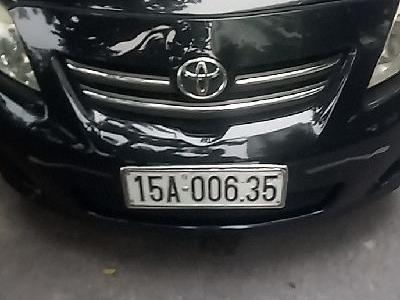lisence: (119, 164, 288, 209)
